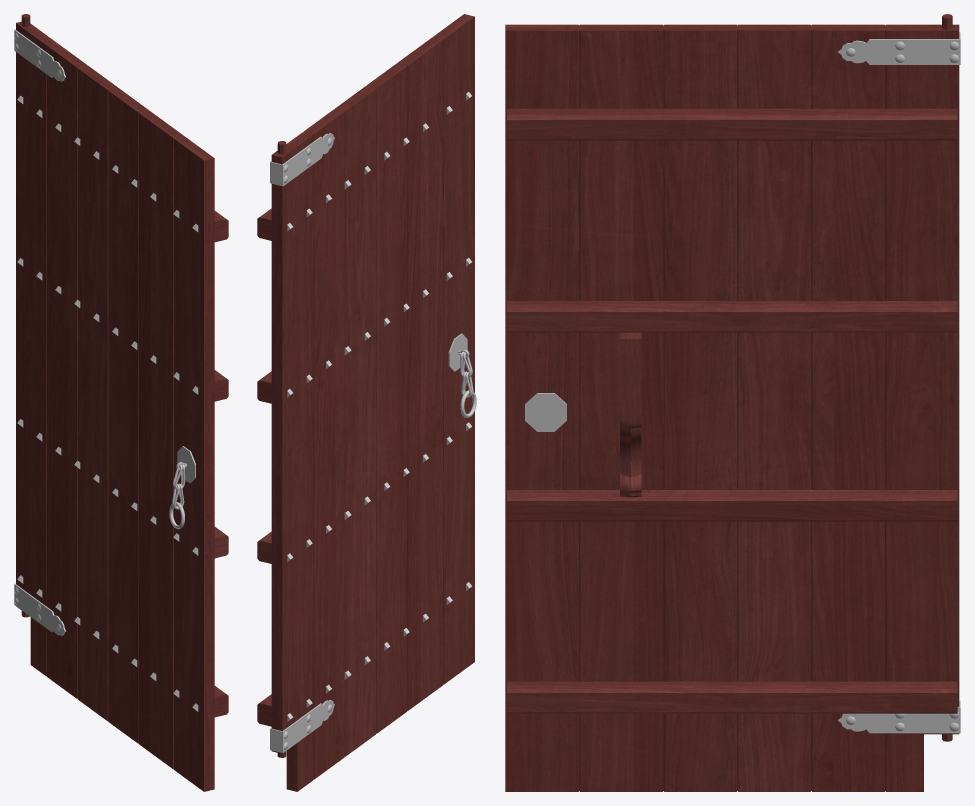
Rendered from SM_GateDoor01G.fbx.
3 views of the same model, side by side, from view 1: azimuth 30°, elevation 25°; view 2: azimuth 150°, elevation 25°; view 3: azimuth 270°, elevation 25° (orthographic). The views are drawn at different scales.
Visible parts, largest first — view 1: SM_GateDoor01G; view 2: SM_GateDoor01G; view 3: SM_GateDoor01G.
Part boxes in pixels (left/top/right/bottom): SM_GateDoor01G: left=14, top=14, right=228, bottom=791; SM_GateDoor01G: left=257, top=14, right=476, bottom=791; SM_GateDoor01G: left=505, top=14, right=960, bottom=791.
Bounding box in the file's own units: 19.62 × 134 × 251.
